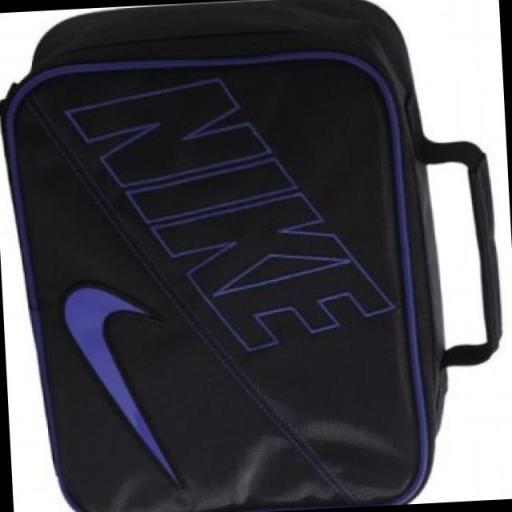Nike: (61, 273, 184, 499)
